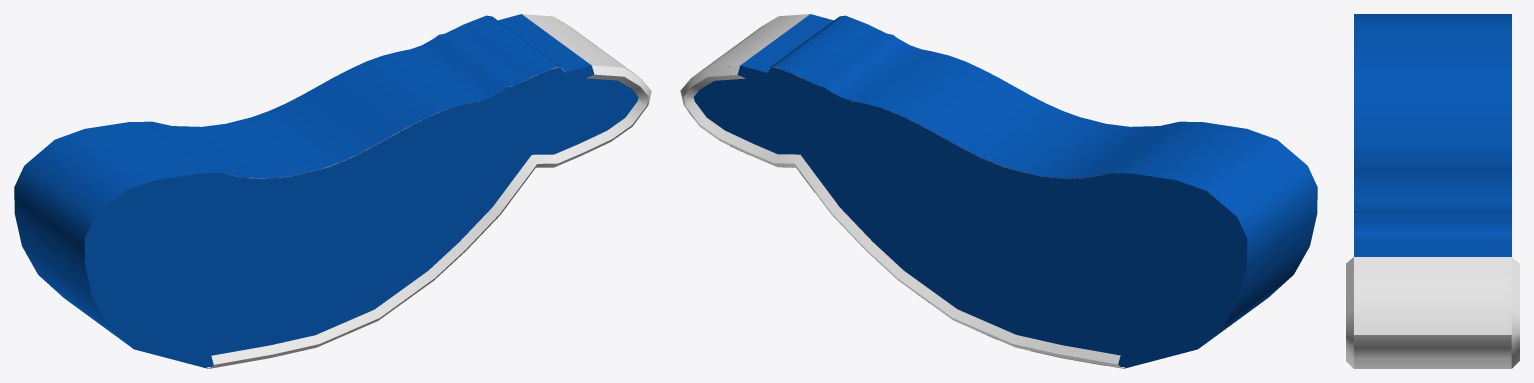
The model's file is smMuzzle.fbx.
The picture shows the model from 3 angles, left to right: view 1: azimuth 30°, elevation 25°; view 2: azimuth 150°, elevation 25°; view 3: azimuth 270°, elevation 25°; orthographic projection. The views are drawn at different scales.
Parts seen in each view (by area): view 1: Sonic Head.001, Outline.001; view 2: Sonic Head.001, Outline.001; view 3: Sonic Head.001, Outline.001.
Part boxes in pixels (<box>): Sonic Head.001: <box>14,14,638,368</box>; Outline.001: <box>207,14,651,368</box>; Sonic Head.001: <box>687,14,1317,368</box>; Outline.001: <box>680,14,1124,368</box>; Sonic Head.001: <box>1354,14,1511,256</box>; Outline.001: <box>1346,257,1519,368</box>.
Size of the model in its own units: 466 by 174 by 110.
2 materials, 1 textured.
